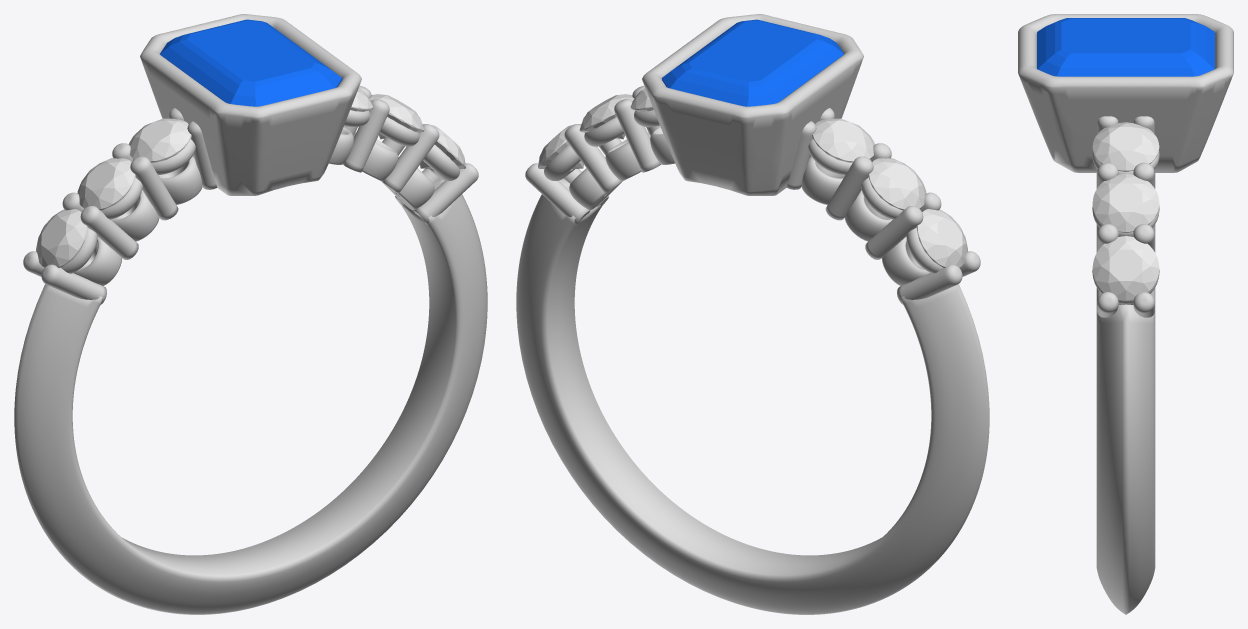
The model's file is bluesapphire-emerald-platinum-bezelset-knifeedge-7stone.glb.
3 renders of one model, left to right at view 1: azimuth 30°, elevation 25°; view 2: azimuth 150°, elevation 25°; view 3: azimuth 270°, elevation 25°, orthographic.
Parts seen in each view (by area): view 1: metal.001, stone.001, side.006, side.007, side.008, side.010, side.011; view 2: metal.001, stone.001, side.006, side.007, side.008, side.010, side.011; view 3: metal.001, stone.001, side.011, side.010, side.009.
Part boxes in pixels (<box>): metal.001: <box>14,14,487,614</box>; stone.001: <box>160,19,342,106</box>; side.006: <box>36,209,87,267</box>; side.007: <box>77,158,135,210</box>; side.008: <box>128,118,191,162</box>; side.010: <box>369,94,424,139</box>; side.011: <box>420,124,465,168</box>; metal.001: <box>516,14,989,614</box>; stone.001: <box>661,19,843,106</box>; side.006: <box>916,209,967,267</box>; side.007: <box>868,158,926,210</box>; side.008: <box>812,118,875,162</box>; side.010: <box>579,94,634,139</box>; side.011: <box>538,124,583,168</box>; metal.001: <box>1018,14,1233,614</box>; stone.001: <box>1037,18,1214,76</box>; side.011: <box>1092,236,1159,300</box>; side.010: <box>1092,174,1159,232</box>; side.009: <box>1092,122,1159,171</box>.
Bounding box in the file's own units: 20.4 × 22.94 × 8.11.
